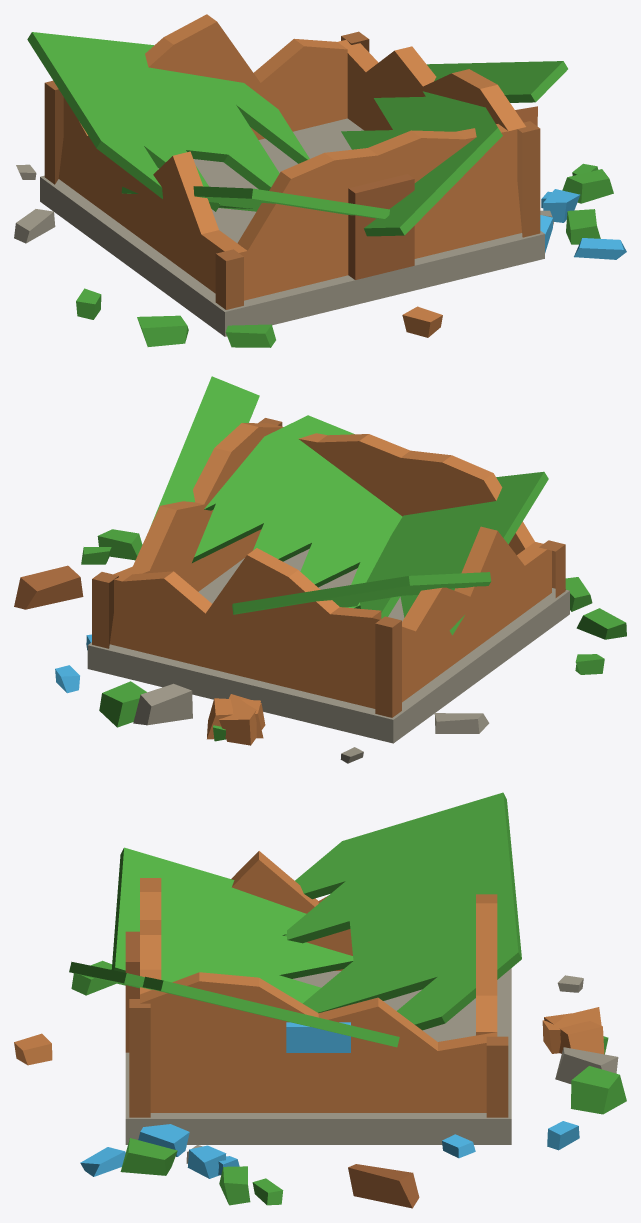
File: house_t1_v2_dmg2.glb
3 views of the same model, one above another, from view 1: azimuth 30°, elevation 25°; view 2: azimuth 150°, elevation 25°; view 3: azimuth 270°, elevation 25° (orthographic). The views are drawn at different scales.
Visible parts, largest first — view 1: house_t1_v2_dmg2; view 2: house_t1_v2_dmg2; view 3: house_t1_v2_dmg2.
Boxes of the visible parts, left/top/right/bottom form: house_t1_v2_dmg2: left=14, top=14, right=626, bottom=347; house_t1_v2_dmg2: left=14, top=376, right=626, bottom=763; house_t1_v2_dmg2: left=14, top=792, right=626, bottom=1208.
Bounding box in the file's own units: 0.9063 × 0.2829 × 0.8573.
Materials: 1 (1 with a texture image).
